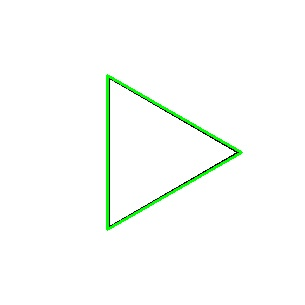line_segment: (106, 75, 242, 230)
